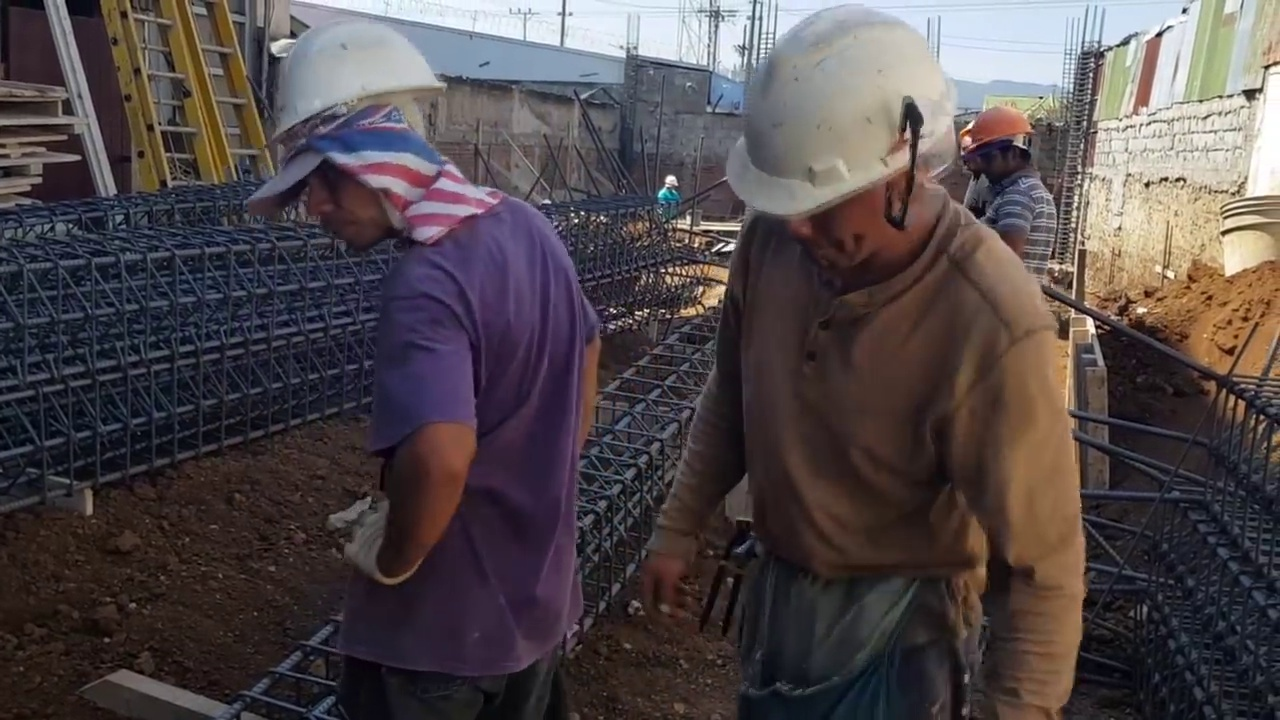helmet: (726, 7, 971, 223), (265, 26, 433, 157), (965, 105, 1038, 153), (664, 175, 679, 186)
helmet-on: (724, 17, 969, 287), (259, 24, 458, 266), (967, 103, 1043, 197), (664, 174, 680, 193)
person: (622, 10, 1071, 720), (237, 20, 584, 623), (947, 98, 1051, 276), (653, 173, 679, 219)
